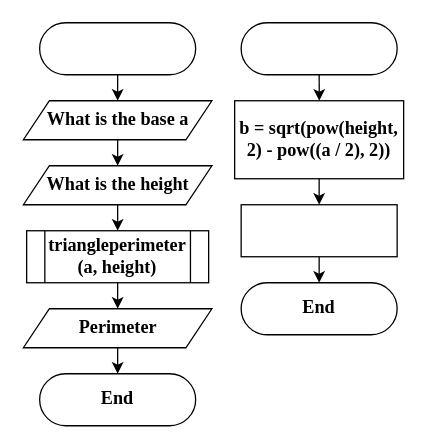
Some shapes in this 426 by 448 pixel diagram are drawn without their labels. The centre of each missing label's shape, as x and y in pixels:
Beginning: (x=117, y=48)
return a + b * 2: (x=318, y=230)
triangleperimeter (int a, int height): (x=318, y=48)
